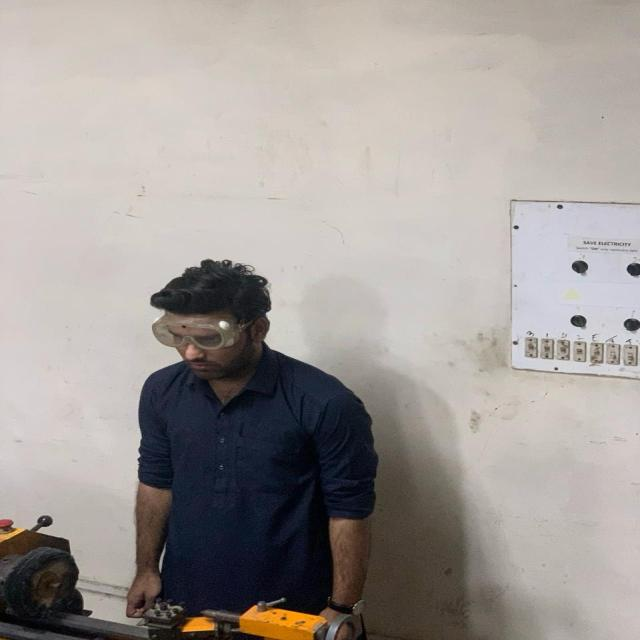googles: (150, 314, 242, 352)
